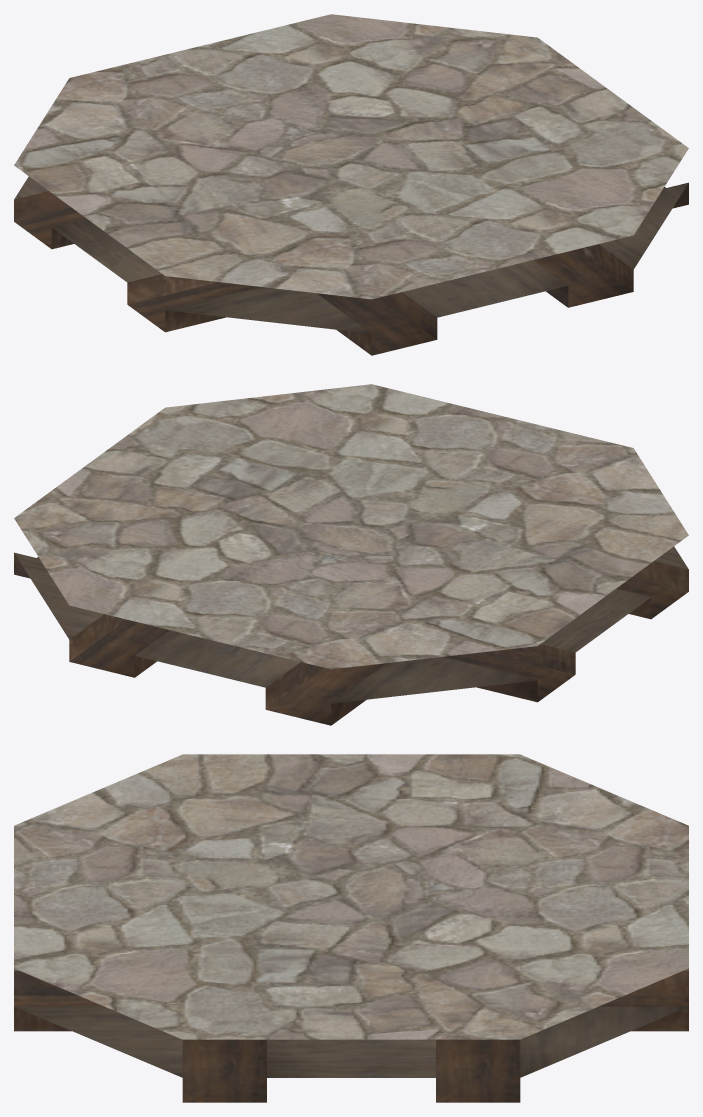
Rendered from towerblock_floor_2.glb.
3 views of the same model, one above another, from view 1: azimuth 30°, elevation 25°; view 2: azimuth 150°, elevation 25°; view 3: azimuth 270°, elevation 25° (orthographic). The views are drawn at different scales.
Visible parts, largest first — view 1: towerblock_floor_2; view 2: towerblock_floor_2; view 3: towerblock_floor_2.
Part boxes in pixels (box(x1,y1,x2,y2)): towerblock_floor_2: box(14, 14, 688, 355); towerblock_floor_2: box(14, 384, 688, 725); towerblock_floor_2: box(14, 754, 688, 1102).
Bounding box in the file's own units: 8 × 0.8221 × 8.
3 materials, 3 textured.
